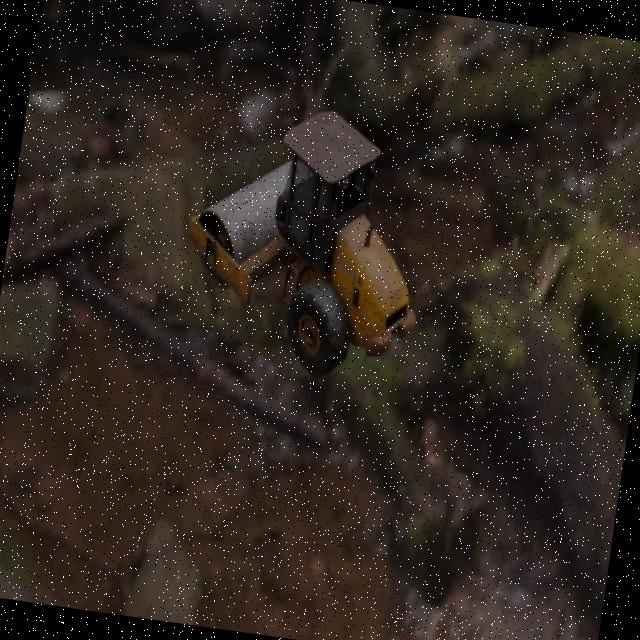Roller: (170, 94, 442, 388)
